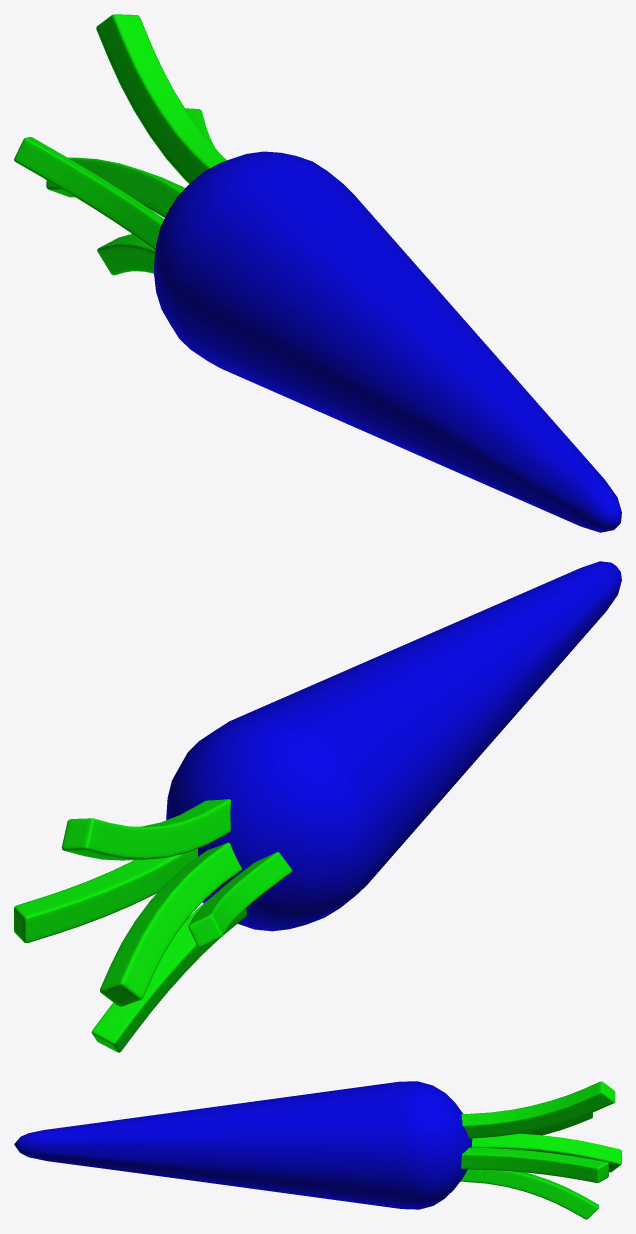
Rendered from karotte_high.fbx.
The picture shows the model from 3 angles, top to bottom: view 1: azimuth 30°, elevation 25°; view 2: azimuth 150°, elevation 25°; view 3: azimuth 270°, elevation 25°; orthographic projection. The views are drawn at different scales.
Parts seen in each view (by area): view 1: polySurface12; view 2: polySurface12; view 3: polySurface12.
Boxes of the visible parts, box(x1,y1,x2,y2) form: polySurface12: box(14, 14, 621, 532); polySurface12: box(14, 561, 621, 1052); polySurface12: box(14, 1081, 621, 1219).
Size of the model in its own units: 0.1198 by 0.1412 by 0.5575.
